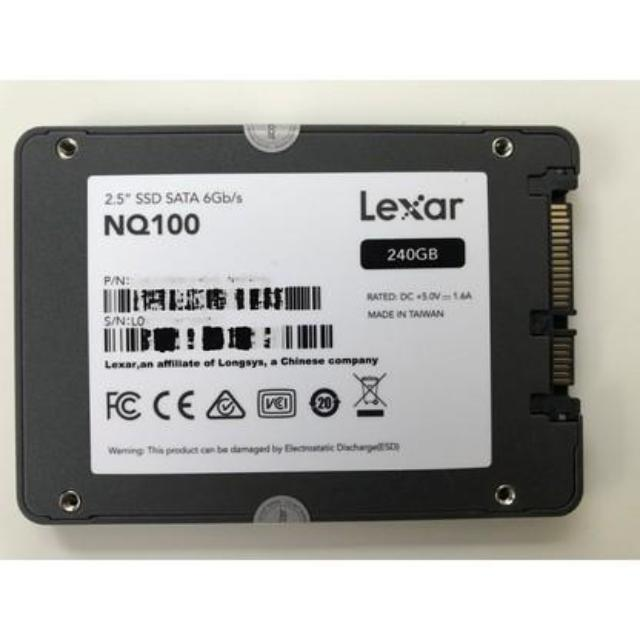DISK: (12, 114, 588, 526)
